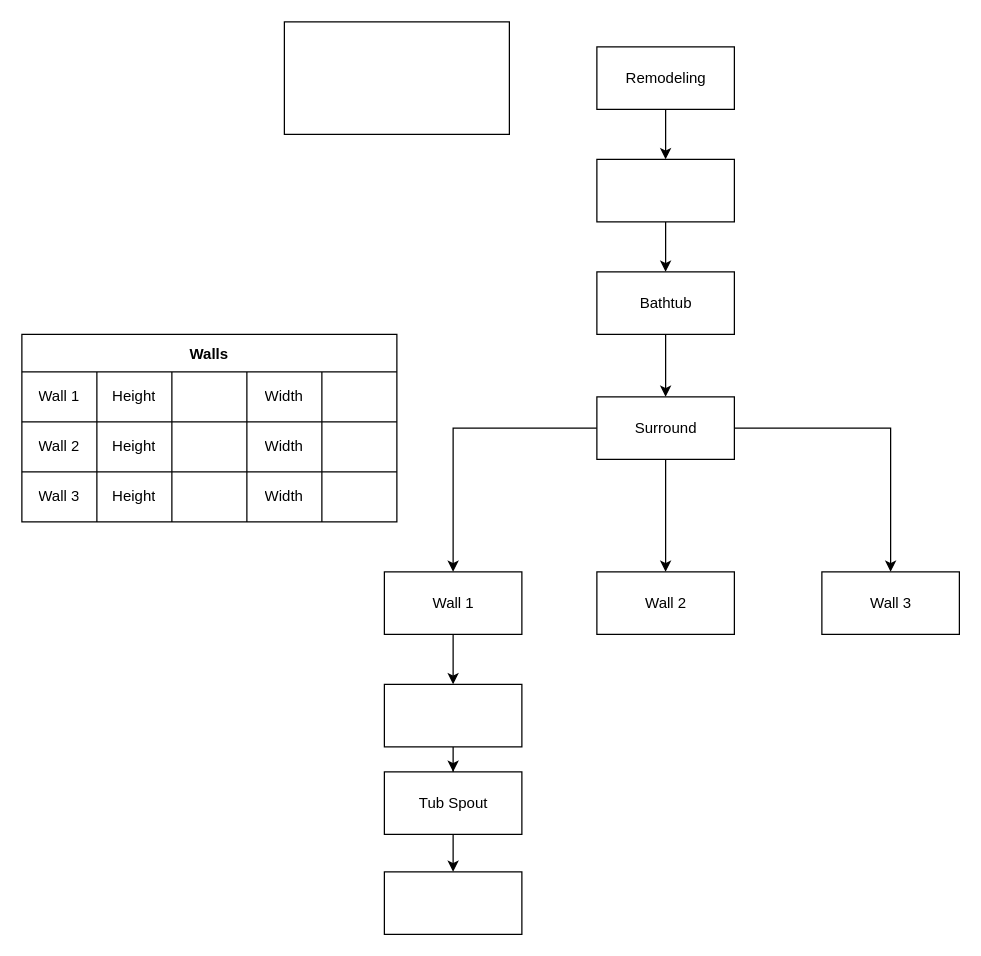
The diagram is 981 pixels wide and 956 high, and some of its shapes have lost their labels. Each missing label, with the box of its shape:
Bathroom: (596, 158, 734, 222)
Scope PK uniqueId FK1 foreignKey Alias: (283, 21, 509, 134)
Shower Spout: (383, 871, 522, 934)
Tub/Shower Combo Valve: (383, 683, 522, 747)
